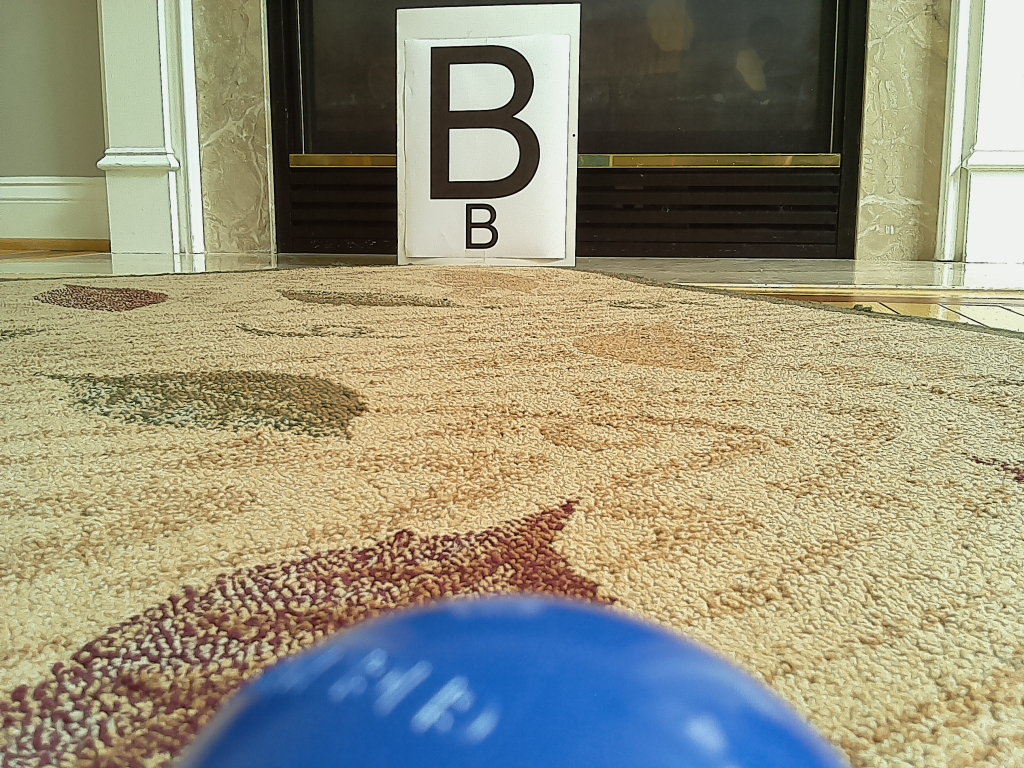letter: (428, 46, 541, 200)
